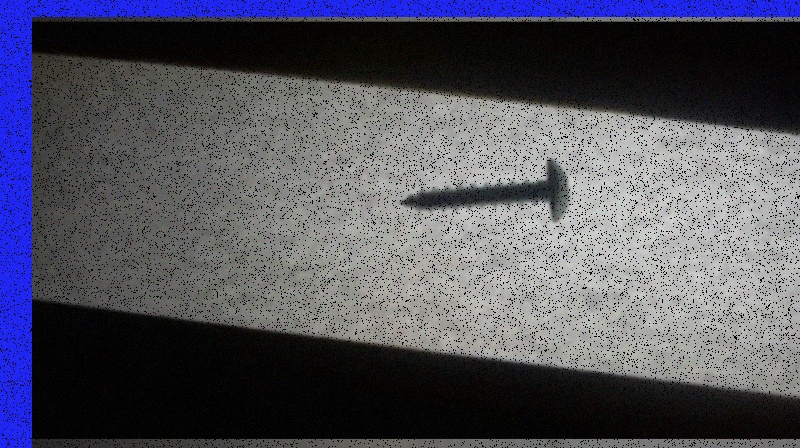S003: (392, 156, 574, 223)
